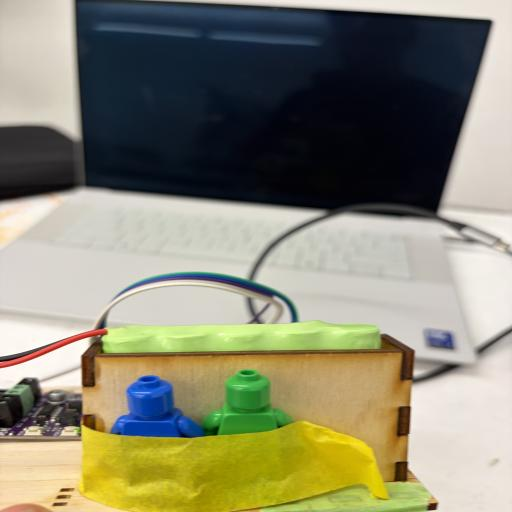Blue-Lego: (110, 375, 204, 437)
Green-Lego: (201, 369, 293, 435)
